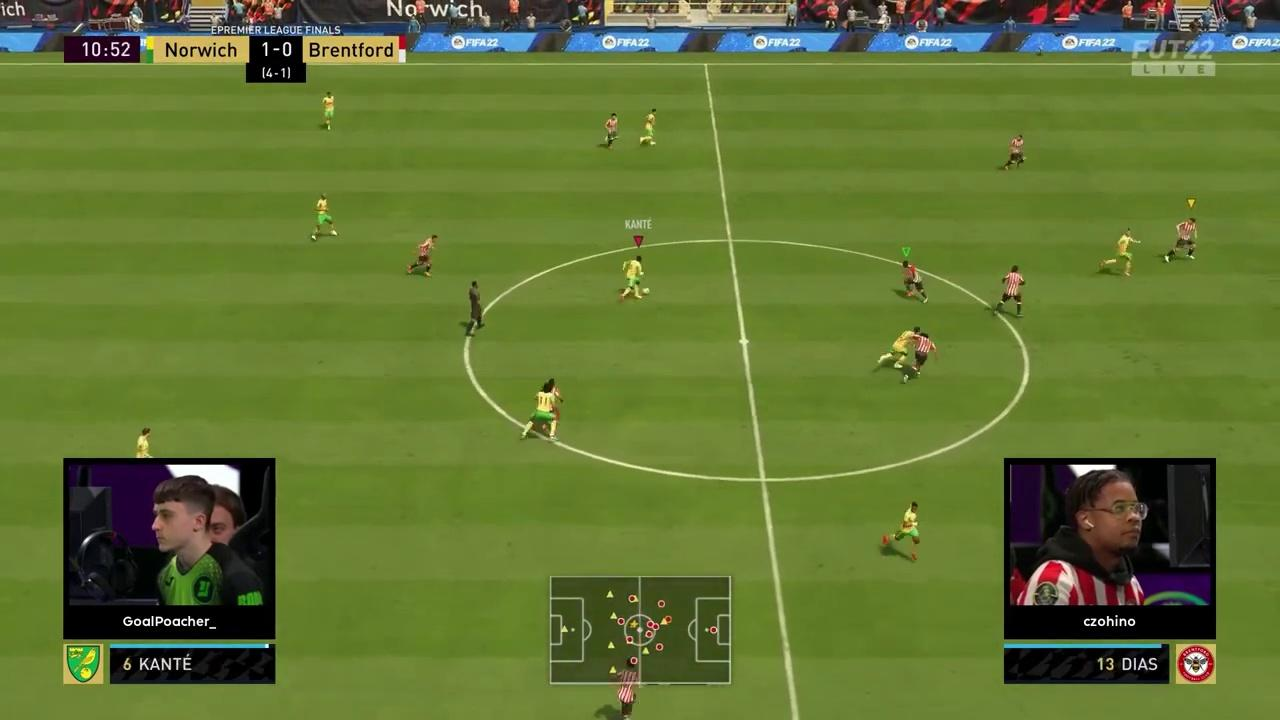scoreboard: (156, 31, 406, 66)
timestamp: (66, 28, 140, 63)
